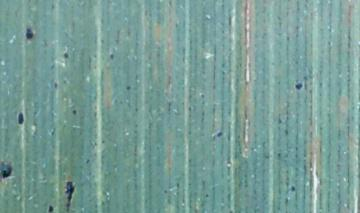tarspot: (63, 177, 77, 213), (1, 158, 16, 183), (22, 24, 36, 44), (15, 108, 26, 128), (292, 79, 306, 93), (214, 127, 227, 140), (107, 50, 117, 63), (46, 202, 57, 213), (288, 182, 298, 194), (51, 78, 60, 91), (61, 49, 71, 60), (122, 83, 133, 93), (71, 107, 79, 119)
